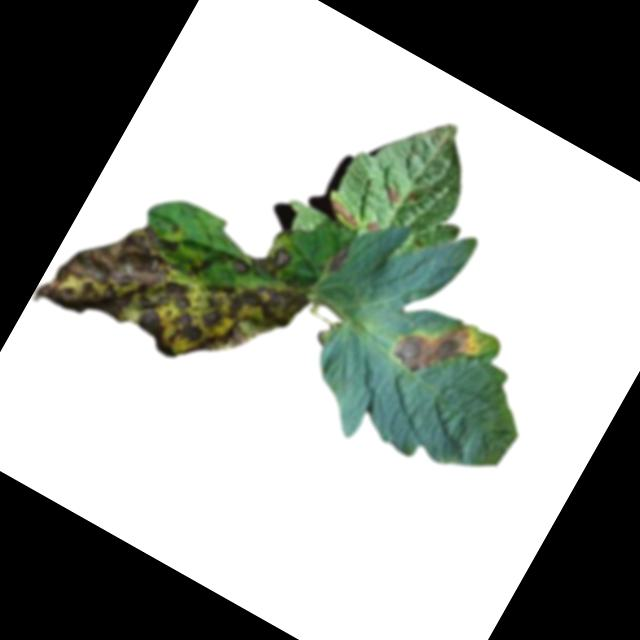Early_blight: (34, 181, 311, 419), (382, 295, 485, 395), (237, 228, 296, 283), (323, 196, 364, 227), (323, 242, 353, 276), (380, 179, 408, 206), (363, 218, 382, 236)
